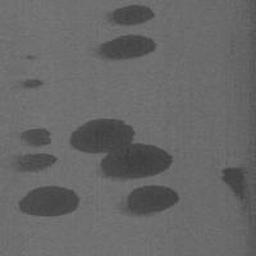Oil spot: (69, 116, 174, 180), (17, 184, 81, 218), (125, 184, 182, 215), (99, 33, 157, 61), (220, 166, 251, 205), (113, 3, 156, 27), (12, 152, 58, 174), (20, 127, 54, 148), (20, 78, 45, 90), (23, 54, 41, 61)
